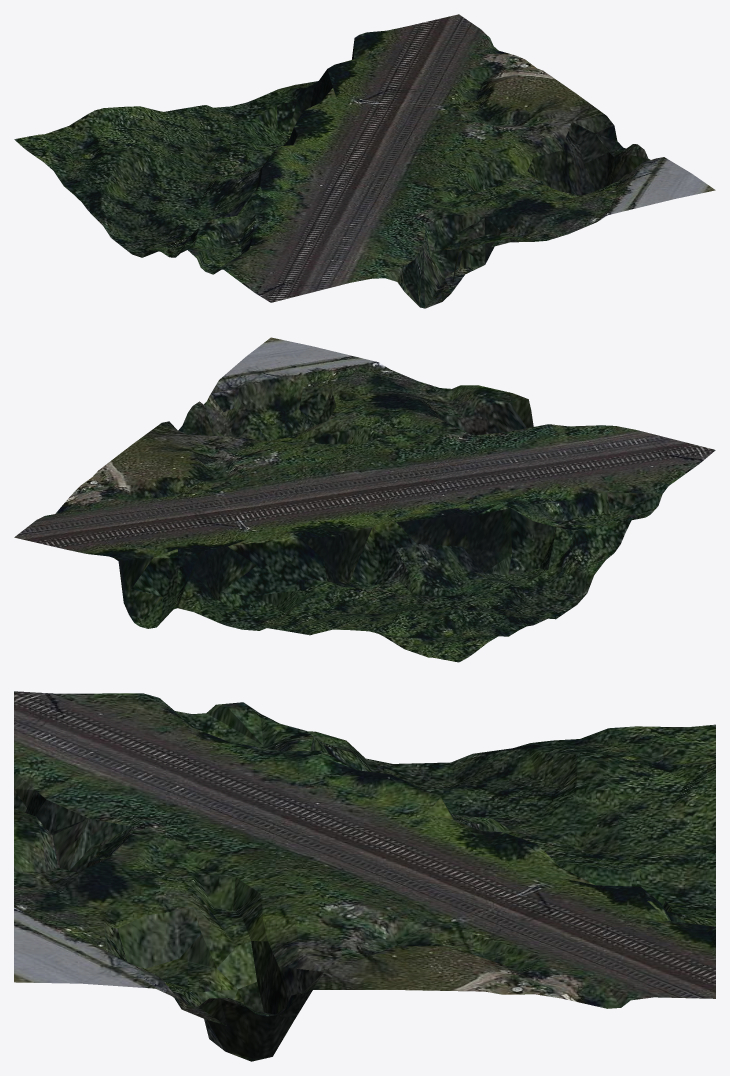
File: map_15_8178_13783.dae
The picture shows the model from 3 angles, top to bottom: view 1: azimuth 30°, elevation 25°; view 2: azimuth 150°, elevation 25°; view 3: azimuth 270°, elevation 25°; orthographic projection. The views are drawn at different scales.
Parts seen in each view (by area): view 1: Ter0; view 2: Ter0; view 3: Ter0.
Boxes of the visible parts, bbox=[...] form: Ter0: bbox=[14, 14, 715, 308]; Ter0: bbox=[14, 337, 715, 662]; Ter0: bbox=[14, 691, 715, 1061].
Bounding box in the file's own units: 63.88 × 63.88 × 10.31.
3 materials, 3 textured.
